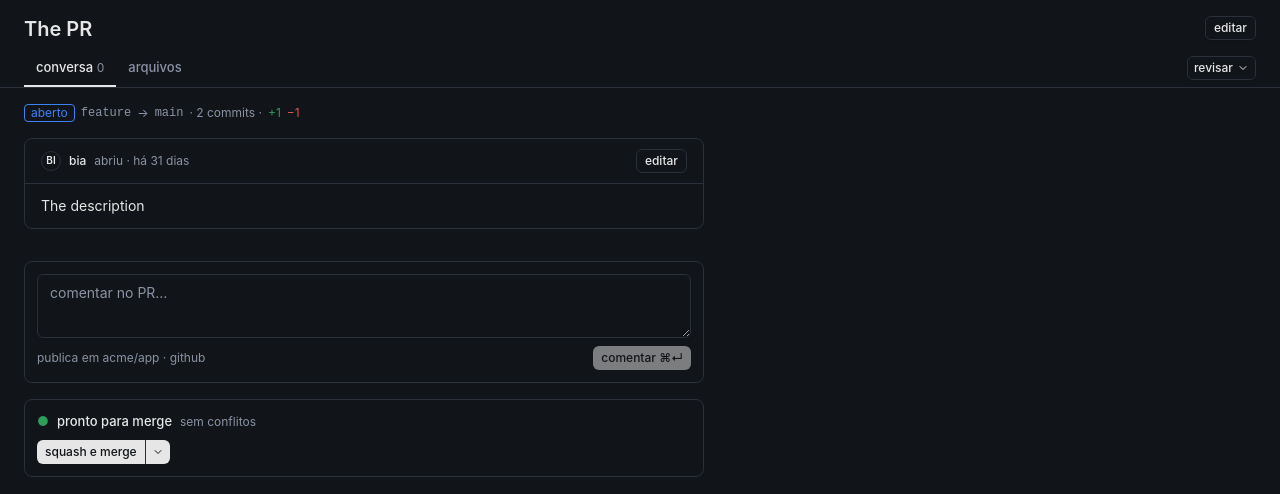
Test case: a failed …/changes is a message inside the files tab and no toast; the conversation still shows (#497)
Expected: the heading "The PR" is shown, [24,17,92,41]
Click the tab "arquivos" at (155, 68), box [116,50,194,87]
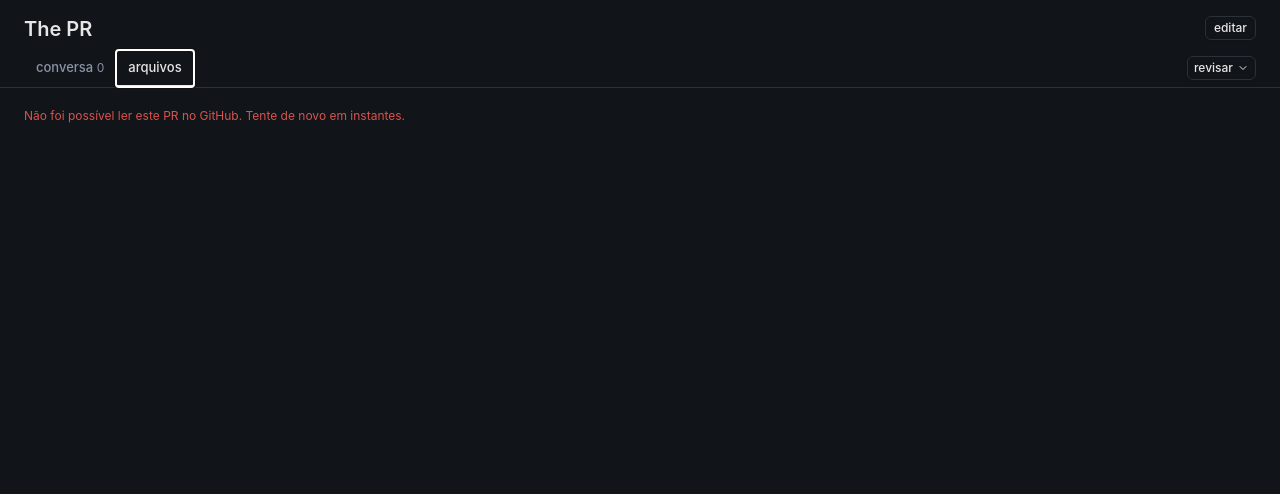
Now the message reads "Não foi possível ler este PR no GitHub. Tente de novo em instantes.", box [24,108,405,123]
